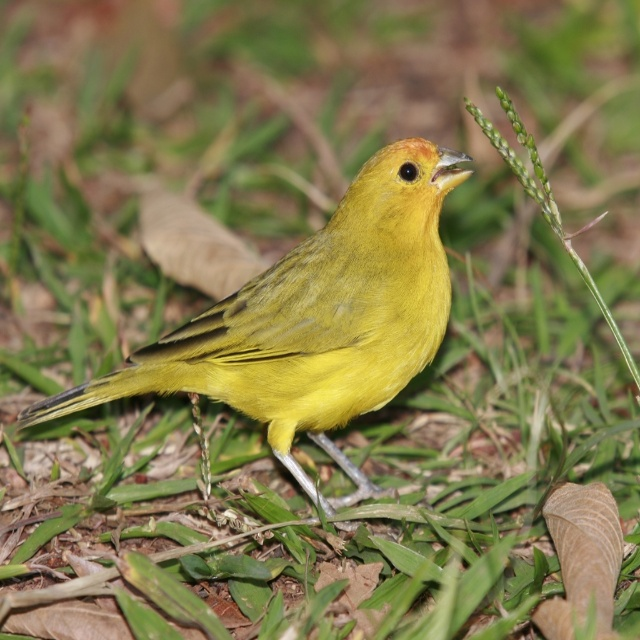Canary: (17, 135, 476, 528)
